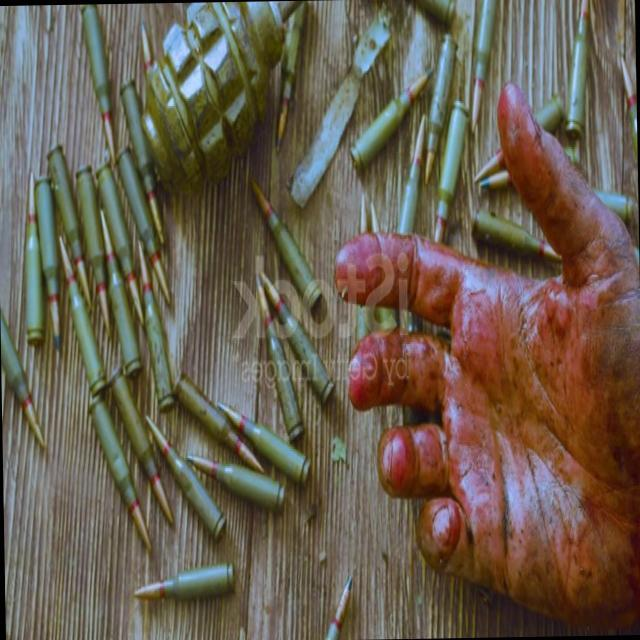grenade: (136, 0, 310, 191)
